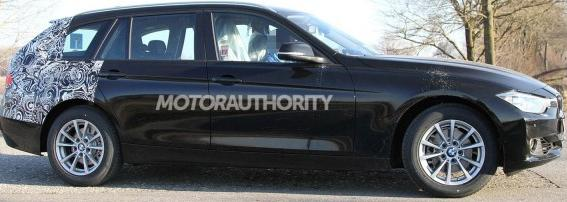front_view: (495, 76, 567, 170)
headlight: (496, 81, 555, 117)
side_glass: (57, 11, 339, 69)
